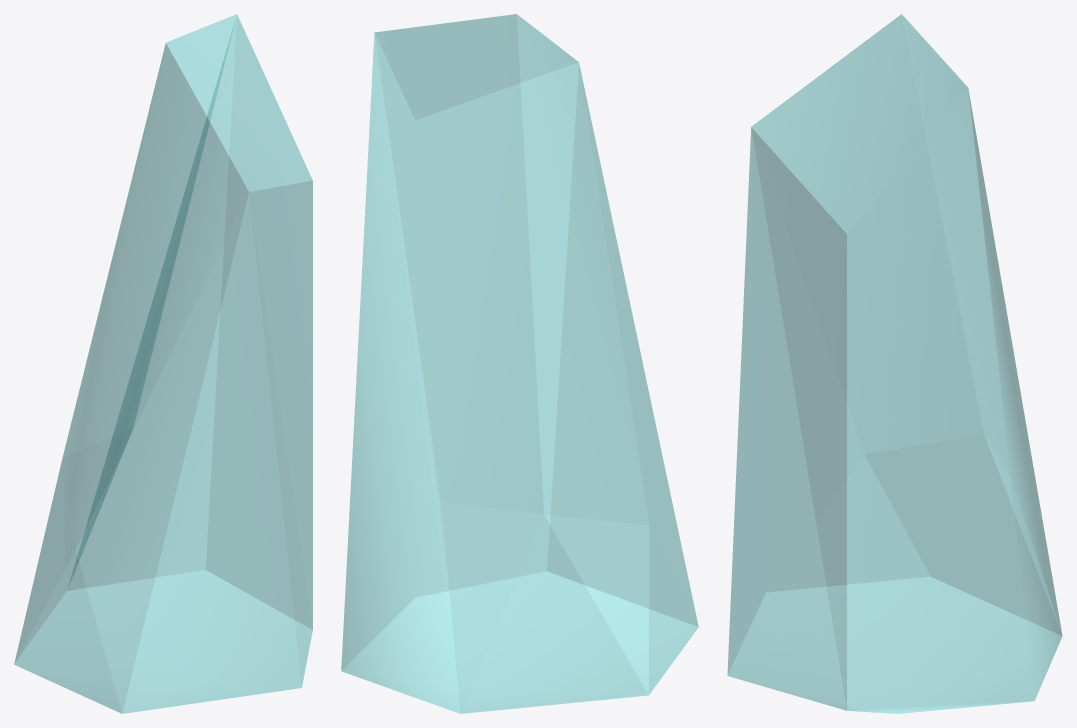
Rendered from Rock_Large_Ice_01.fbx.
3 renders of one model, left to right at view 1: azimuth 30°, elevation 25°; view 2: azimuth 150°, elevation 25°; view 3: azimuth 270°, elevation 25°, orthographic. The views are drawn at different scales.
Parts seen in each view (by area): view 1: Rock_Large_Ice_01; view 2: Rock_Large_Ice_01; view 3: Rock_Large_Ice_01.
Part boxes in pixels (x1,y1,x2,y2): Rock_Large_Ice_01: [14, 14, 312, 713]; Rock_Large_Ice_01: [341, 14, 698, 713]; Rock_Large_Ice_01: [727, 14, 1062, 713].
Size of the model in its own units: 45.92 by 109 by 48.46.
